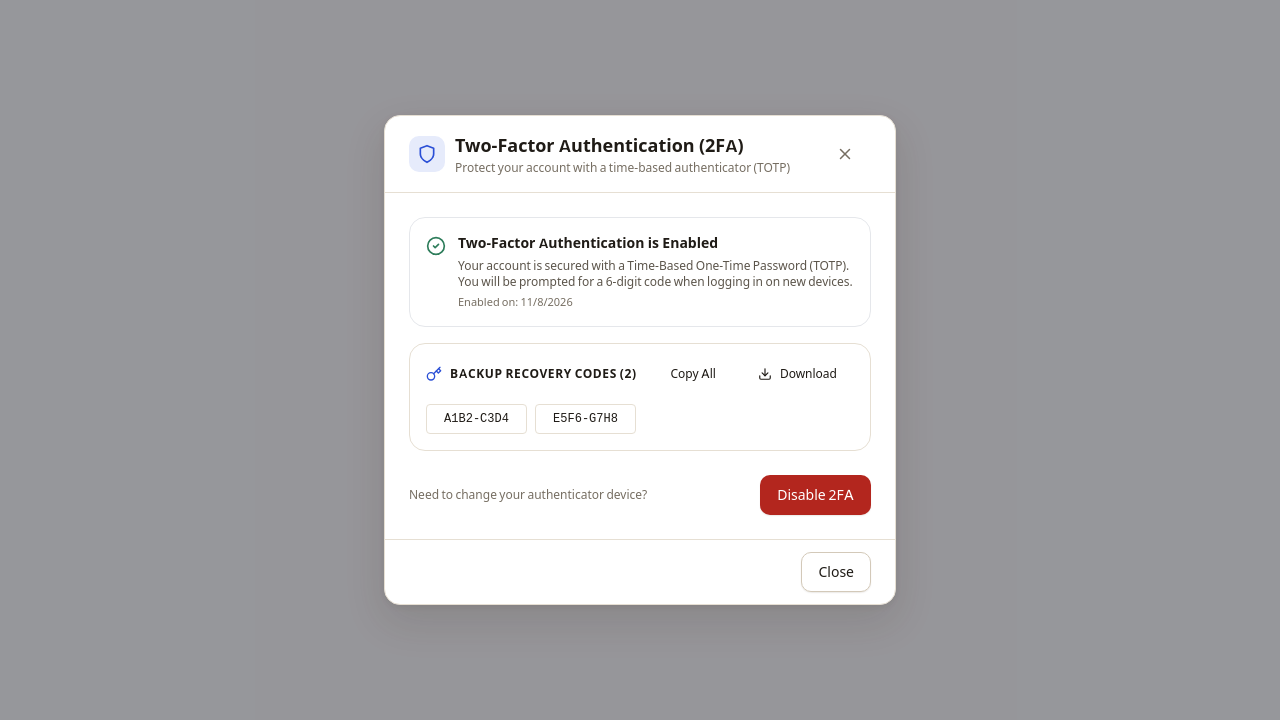
Test: Two-Factor Authentication (AUTH-14) › displays active state when 2FA is already enabled and allows disabling
Check: the heading "Two-Factor Authentication is Enabled" is shown, box [458,235,718,252]
Check: the text "A1B2-C3D4" is shown, box [426,404,527,434]
# Click Disable 2FA
Click the button "Disable 2FA" at (816, 495), box [760,475,871,515]
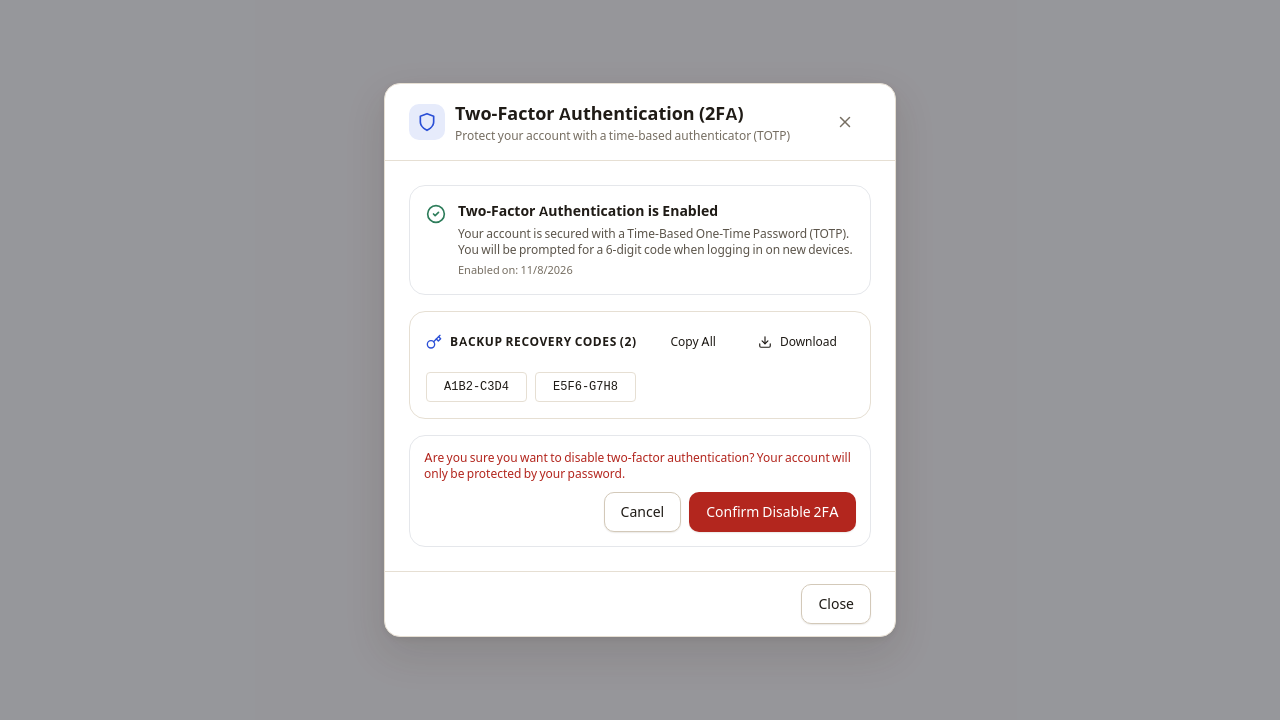
Check: the text "Are you sure you want to disable two-factor authentication?" is shown, box [424,450,851,481]
# Confirm disable
Click the button "Confirm Disable 2FA" at (773, 512), box [689,492,856,532]
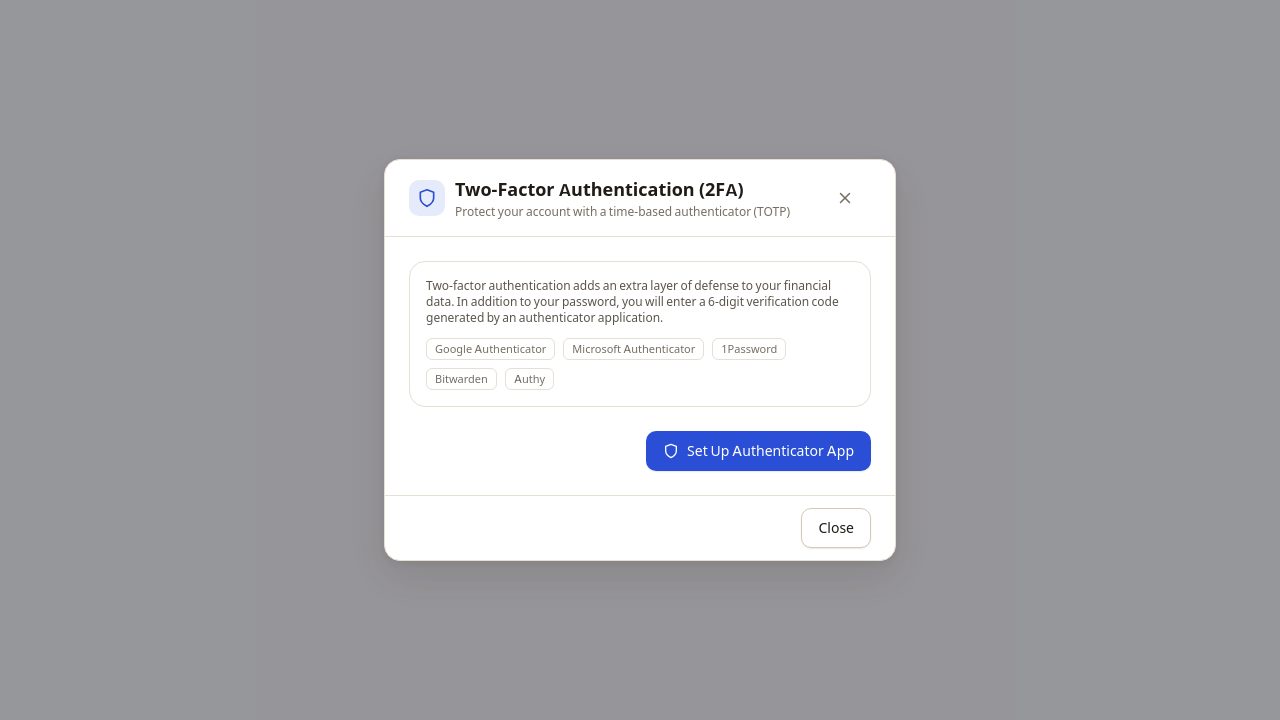
Check: the button "Set Up Authenticator App" is shown, box [646,431,871,471]
